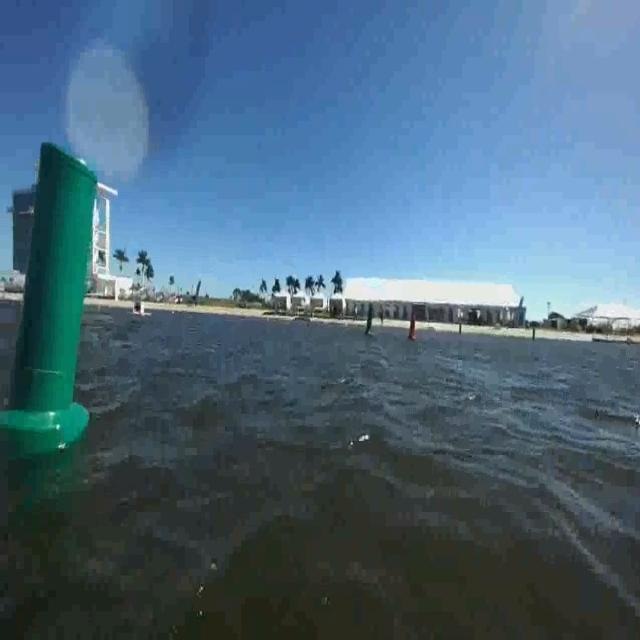green-column-buoy: (1, 135, 102, 453), (362, 302, 376, 338)
red-column-buoy: (408, 308, 420, 342)
